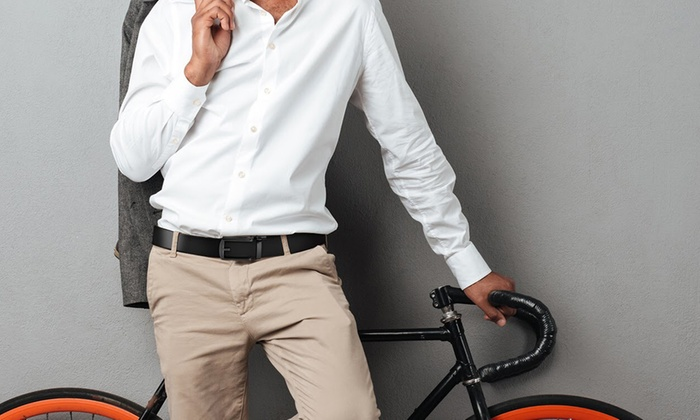F_belt: (147, 225, 338, 259)
F_shirt: (109, 1, 496, 288)
